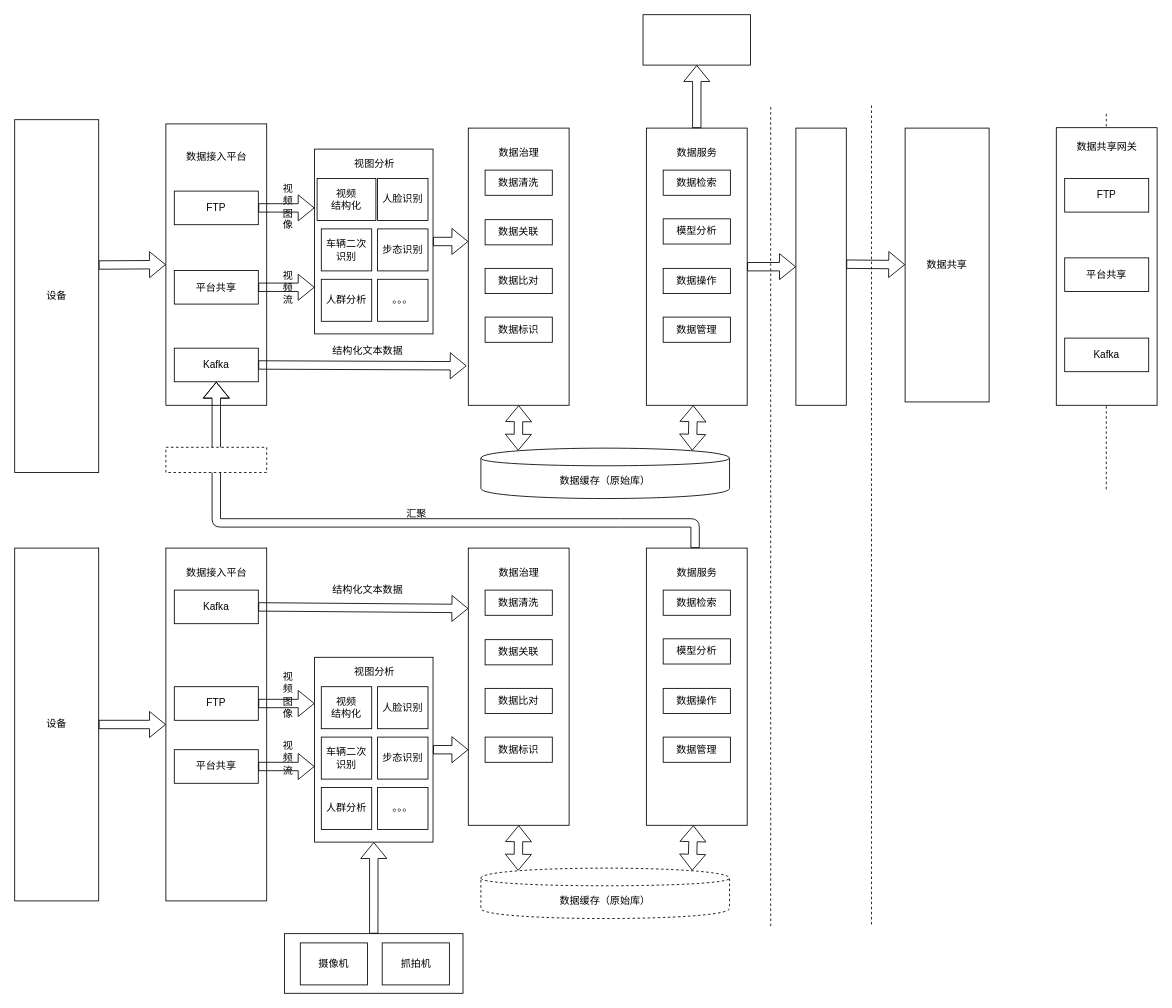
The diagram is 1172 pixels wide and 1008 high, and some of its shapes have lost their labels. Each missing label, with the centre of its shape:
"公 安 网 大 数 据 中 心" belongs at (820,266).
"国标接口" belongs at (216,459).
"省厅" belongs at (696,39).
